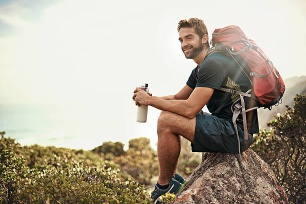male: (175, 16, 209, 64)
